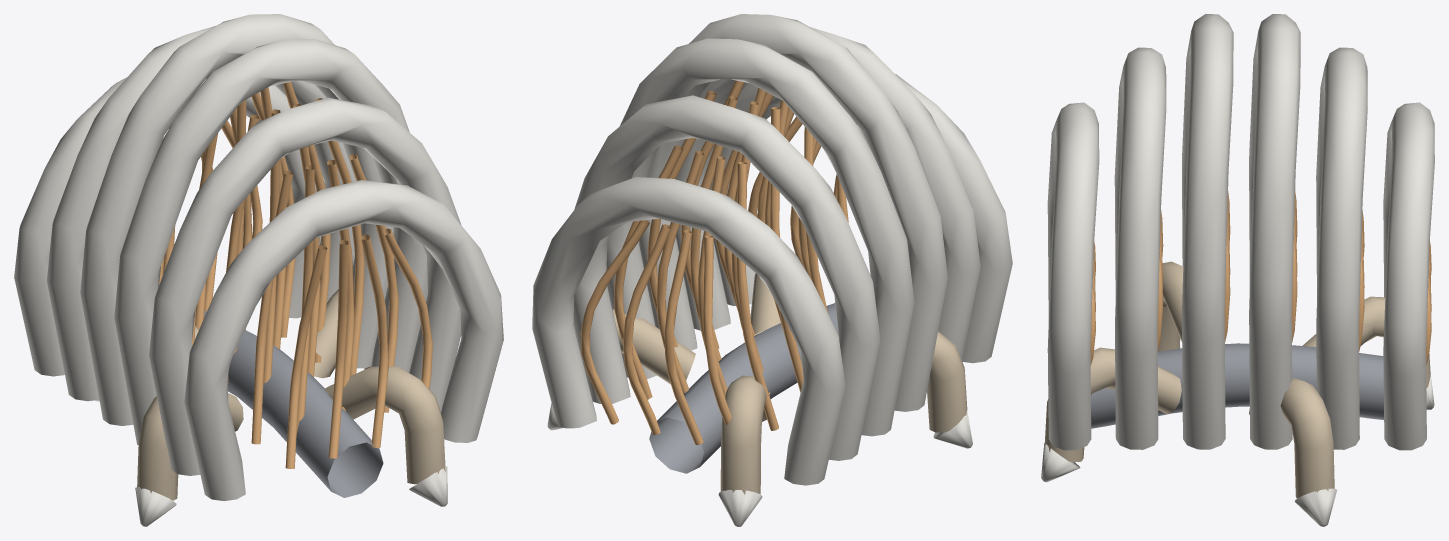
Rendered from bio_blind_harp_03_far.glb.
The picture shows the model from 3 angles, left to right: view 1: azimuth 30°, elevation 25°; view 2: azimuth 150°, elevation 25°; view 3: azimuth 270°, elevation 25°; orthographic projection.
Visible parts, largest first — view 1: Open rib arch, Open rib arch.001, Open rib arch.002, Open rib arch.003, Open rib arch.004, Open rib arch.005, Low axial spine, Resonance filament, Resonance filament.004, Crooked support.003, Resonance filament.008, Resonance filament.012 (+6 smaller); view 2: Open rib arch.005, Open rib arch.004, Open rib arch.003, Open rib arch.002, Open rib arch.001, Open rib arch, Resonance filament.020, Low axial spine, Resonance filament.016, Crooked support.001, Resonance filament.012, Crooked support.002 (+7 smaller); view 3: Open rib arch.002, Open rib arch.003, Open rib arch.001, Open rib arch.004, Open rib arch.005, Open rib arch, Low axial spine, Crooked support, Crooked support.003, Crooked support.002, Crooked support.001, Contact spur (+7 smaller).
Boxes of the visible parts, bbox=[...] form: Open rib arch: bbox=[184, 180, 503, 500]; Open rib arch.001: bbox=[149, 97, 461, 475]; Open rib arch.002: bbox=[114, 39, 427, 445]; Open rib arch.003: bbox=[80, 14, 393, 425]; Open rib arch.004: bbox=[47, 26, 355, 401]; Open rib arch.005: bbox=[14, 77, 324, 376]; Low axial spine: bbox=[204, 311, 383, 497]; Resonance filament: bbox=[285, 228, 432, 468]; Resonance filament.004: bbox=[251, 154, 398, 444]; Crooked support.003: bbox=[325, 366, 445, 484]; Resonance filament.008: bbox=[226, 98, 364, 383]; Resonance filament.012: bbox=[192, 81, 330, 383]; Open rib arch.005: bbox=[532, 177, 845, 485]; Open rib arch.004: bbox=[573, 95, 880, 460]; Open rib arch.003: bbox=[606, 38, 914, 436]; Open rib arch.002: bbox=[639, 14, 947, 411]; Open rib arch.001: bbox=[676, 27, 980, 359]; Open rib arch: bbox=[710, 74, 1012, 363]; Resonance filament.020: bbox=[580, 220, 731, 445]; Low axial spine: bbox=[649, 303, 838, 473]; Resonance filament.016: bbox=[614, 145, 778, 430]; Crooked support.001: bbox=[720, 375, 766, 494]; Resonance filament.012: bbox=[647, 90, 803, 394]; Crooked support.002: bbox=[927, 331, 967, 432]; Open rib arch.002: bbox=[1182, 14, 1233, 449]; Open rib arch.003: bbox=[1249, 14, 1300, 449]; Open rib arch.001: bbox=[1114, 47, 1166, 449]; Open rib arch.004: bbox=[1316, 47, 1367, 449]; Open rib arch.005: bbox=[1383, 102, 1434, 450]; Open rib arch: bbox=[1047, 102, 1099, 450]; Low axial spine: bbox=[1091, 343, 1383, 428]; Crooked support: bbox=[1249, 377, 1334, 498]; Crooked support.003: bbox=[1044, 347, 1181, 462]; Crooked support.002: bbox=[1158, 261, 1183, 351]; Crooked support.001: bbox=[1302, 296, 1430, 388]; Contact spur: bbox=[1294, 488, 1336, 526].
Size of the model in its own units: 1.85 by 2.16 by 1.85.
